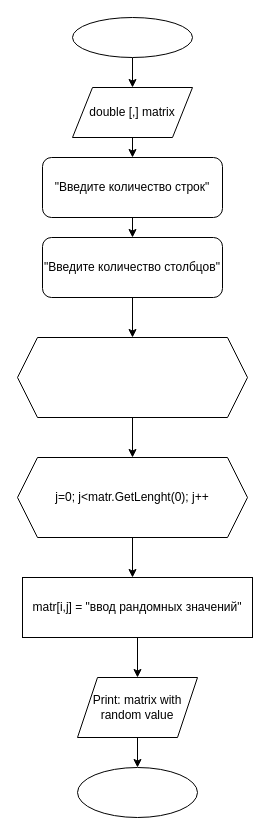
Image size: 270x835. Some labels were removed from this diagram. Here are the shapes that lost their labels. From the top down, the centre of each, then its label:
At pixel 132 37: "start".
At pixel 132 377: "i=0; i<matr.GetLenght(0); i++".
At pixel 137 792: "end".
